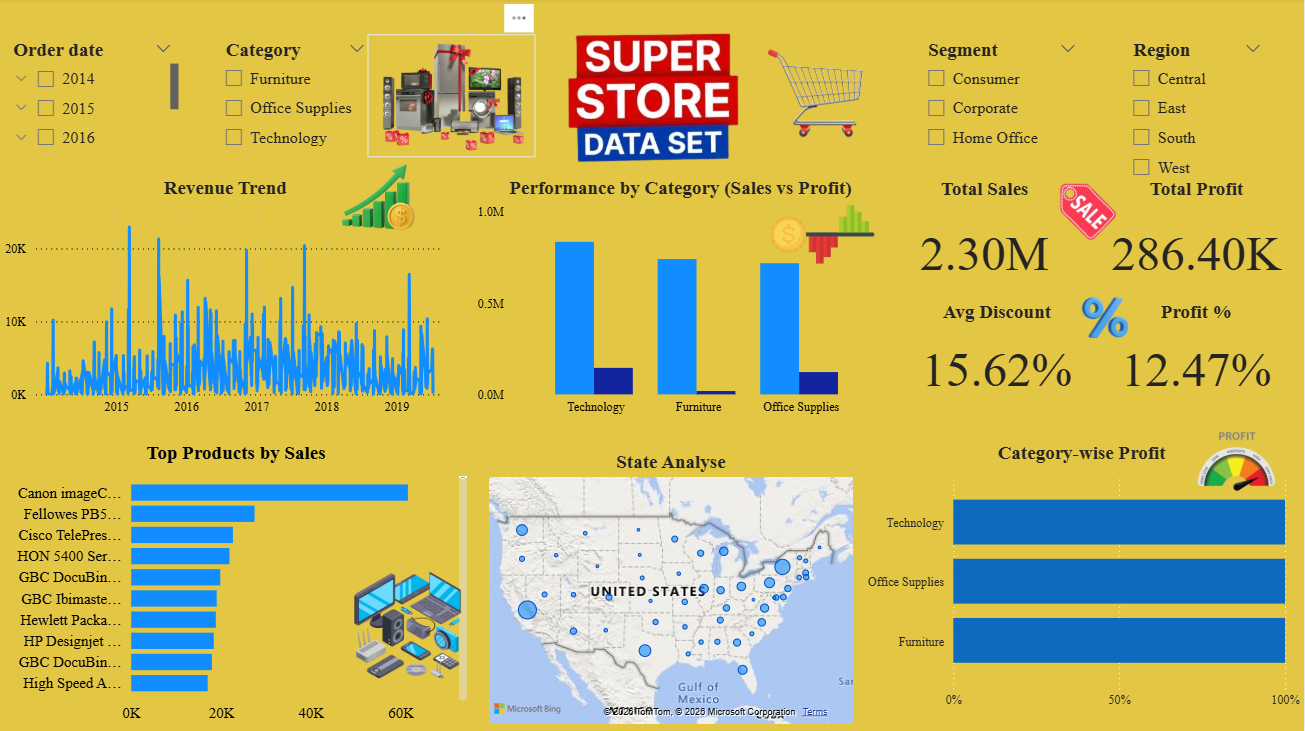

The dashboard page shown, as its layout file describes it:
{"tool":"powerbi","page":{"name":"Dashboard","canvas":[1280,720],"ordinal":0},"visuals":[{"type":"card","title":"Total Sales","fields":{"Values":["Sample - Superstore clean.TOTAL SALES"]},"box":[871.4,176.6,190.9,120.8],"z":0},{"type":"card","title":"Total Profit","fields":{"Values":["Sample - Superstore clean.Total Profit"]},"box":[1068.8,176.6,211.7,120.8],"z":1000},{"type":"card","title":"Avg Discount","fields":{"Values":["Sample - Superstore clean.Avg Discount"]},"box":[871.8,297.2,212.7,107],"z":2000},{"type":"card","title":"Profit %","fields":{"Values":["Sample - Superstore clean.Profit%","select"]},"box":[1069,297.2,211.3,107],"z":3000},{"type":"lineChart","title":"Revenue Trend","fields":{"Category":["Sample - Superstore clean.Order Date "],"Y":["Sum(Sample - Superstore clean.Sales)"]},"box":[0,176.1,442.3,240.8],"z":4000},{"type":"clusteredBarChart","title":"Top Products by  Sales","fields":{"Y":["Sum(Sample - Superstore clean.Sales)"],"Category":["Sample - Superstore clean.Product Name"]},"box":[0,435.1,463.6,283.1],"z":5000},{"type":"clusteredColumnChart","title":"Performance by Category (Sales vs Profit)","fields":{"Category":["Sample - Superstore clean.Category"],"Y":["Sum(Sample - Superstore clean.Sales)","Sum(Sample - Superstore clean.Profit)"]},"box":[463.4,176.1,408.5,240.8],"z":6000},{"type":"map","title":"State Analyse","fields":{"Category":["Sample - Superstore clean.State","Sample - Superstore clean.Region"],"Size":["Sum(Sample - Superstore clean.Sales)"]},"box":[475.3,444.2,367.5,272.7],"z":7000},{"type":"hundredPercentStackedBarChart","title":"Category-wise Profit","fields":{"Category":["Sample - Superstore clean.Category"],"Y":["Sum(Sample - Superstore clean.Profit)"]},"box":[842.9,435.1,437.7,268.8],"z":8000},{"type":"slicer","fields":{"Values":["Sample - Superstore clean.Order Date .Variation.Date Hierarchy.Year","Sample - Superstore clean.Order Date .Variation.Date Hierarchy.Quarter","Sample - Superstore clean.Order Date .Variation.Date Hierarchy.Month","Sample - Superstore clean.Order Date .Variation.Date Hierarchy.Day"]},"box":[0,35.2,180.3,122.5],"z":9000},{"type":"slicer","fields":{"Values":["Sample - Superstore clean.Category"]},"box":[208.5,35.2,162,122.5],"z":10000},{"type":"slicer","fields":{"Values":["Sample - Superstore clean.Region"]},"box":[1100,35.2,150.7,149.3],"z":11000},{"type":"slicer","fields":{"Values":["Sample - Superstore clean.Segment"]},"box":[898.6,35.2,170.4,121.1],"z":12000},{"type":"image","box":[335.1,554.5,128.6,124.7],"z":13000},{"type":"image","box":[1010.4,176.6,115.6,70.1],"z":14000},{"type":"image","box":[1024.7,271.4,119.5,88.3],"z":15000},{"type":"image","box":[315.6,157.1,113,77.9],"z":16000},{"type":"image","box":[703.9,26,206.5,131.2],"z":17000},{"type":"image","box":[724.7,167.5,164.9,128.6],"z":18000},{"type":"image","box":[1145.5,416.9,135.1,75.3],"z":19000},{"type":"image","box":[488.3,26,305.2,150.6],"z":20000},{"type":"image","box":[361,35.1,163.6,122.1],"z":21000}]}

Visuals, with their boxes in screenshot pixels (x1, y1, x2, y2), scaled from the page's 1280x720 canvas onto the 1305x731 screenshot:
"Total Sales" card: crop(888, 179, 1083, 302)
"Total Profit" card: crop(1090, 179, 1304, 302)
"Avg Discount" card: crop(889, 302, 1106, 410)
"Profit %" card: crop(1090, 302, 1304, 410)
"Revenue Trend" lineChart: crop(0, 179, 451, 423)
"Top Products by  Sales" clusteredBarChart: crop(0, 442, 473, 729)
"Performance by Category (Sales vs Profit)" clusteredColumnChart: crop(472, 179, 889, 423)
"State Analyse" map: crop(485, 451, 859, 728)
"Category-wise Profit" hundredPercentStackedBarChart: crop(859, 442, 1304, 715)
slicer - Sample - Superstore clean.Order Date .Variation.Date Hierarchy.Year x Sample - Superstore clean.Order Date .Variation.Date Hierarchy.Quarter: crop(0, 36, 184, 160)
slicer - Sample - Superstore clean.Category: crop(213, 36, 378, 160)
slicer - Sample - Superstore clean.Region: crop(1121, 36, 1275, 187)
slicer - Sample - Superstore clean.Segment: crop(916, 36, 1090, 159)
image: crop(342, 563, 473, 690)
image: crop(1030, 179, 1148, 250)
image: crop(1045, 276, 1167, 365)
image: crop(322, 160, 437, 239)
image: crop(718, 26, 928, 160)
image: crop(739, 170, 907, 301)
image: crop(1168, 423, 1304, 500)
image: crop(498, 26, 809, 179)
image: crop(368, 36, 535, 160)
